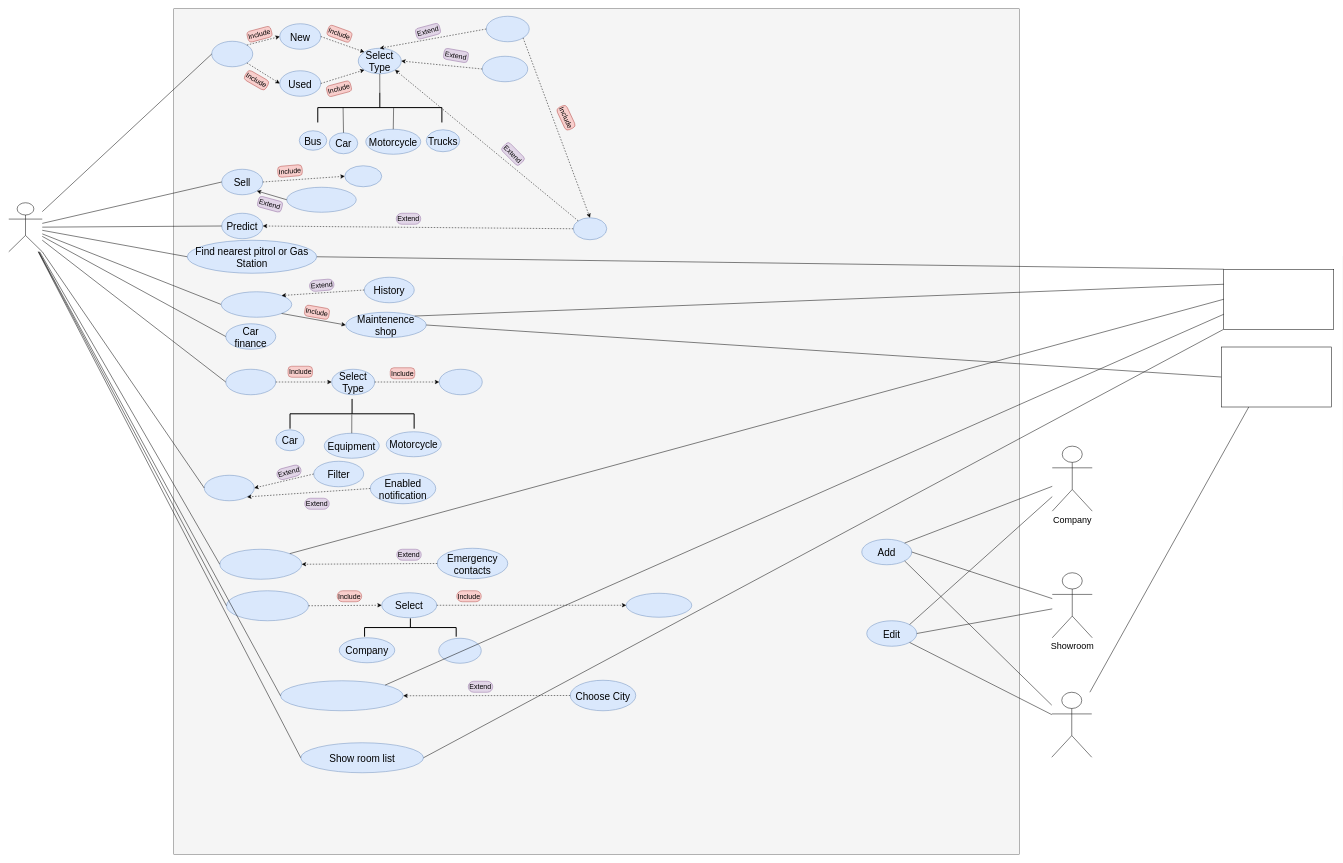
Image size: 1343x863. Some labels were removed from this diagram. Each missing label, with the box of its shape:
+Add fav: (482, 56, 528, 82)
Add Car: (344, 165, 382, 187)
Buy: (211, 41, 253, 67)
Car Side Asssistance: (219, 549, 302, 579)
Car type: (438, 638, 481, 663)
Compare: (486, 16, 529, 42)
DATA Base Shops locations: (1221, 346, 1331, 407)
Date: (439, 369, 482, 395)
Google Maps: (1223, 269, 1334, 329)
Maintenence: (221, 291, 292, 317)
News: (204, 475, 254, 501)
Rent: (225, 369, 276, 395)
Road Emergency alerts: (280, 680, 403, 711)
Search: (573, 217, 607, 240)
Send message: (626, 593, 692, 617)
Shop: (1051, 692, 1092, 757)
Transportation: (226, 590, 308, 621)
USER: (8, 202, 42, 252)
view offered cars: (286, 187, 356, 212)
